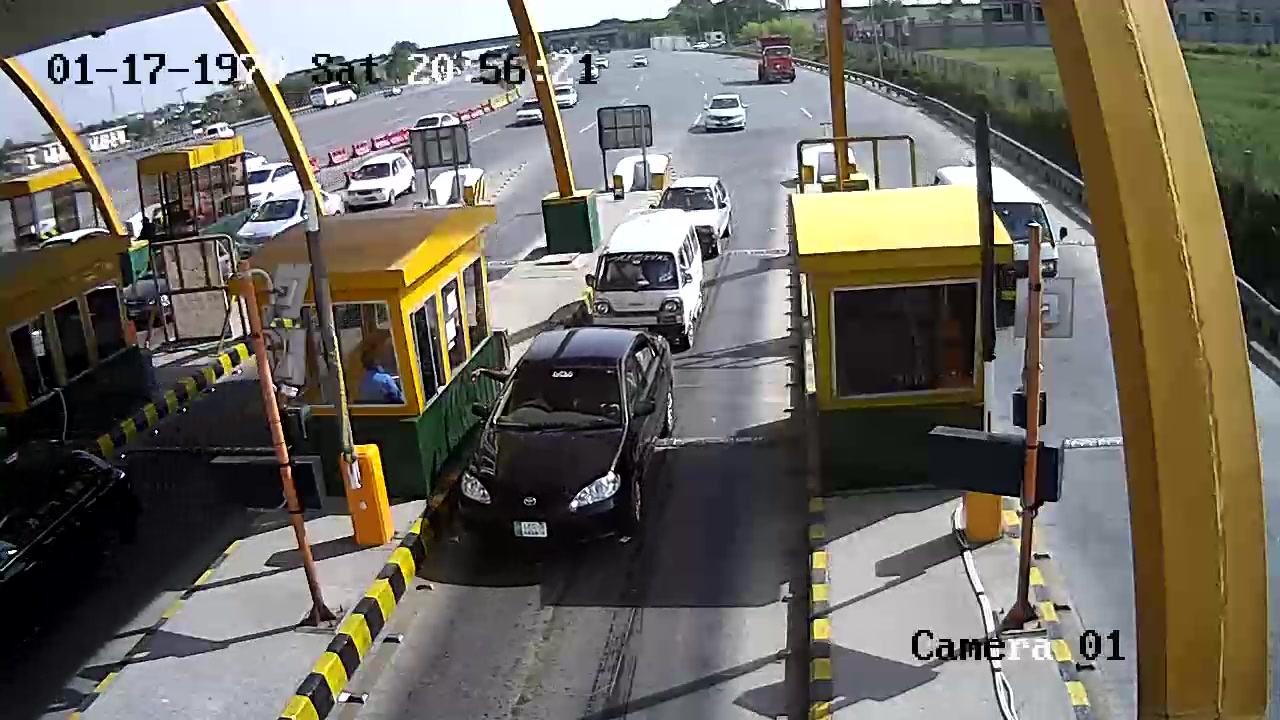F1: (433, 322, 698, 600)
